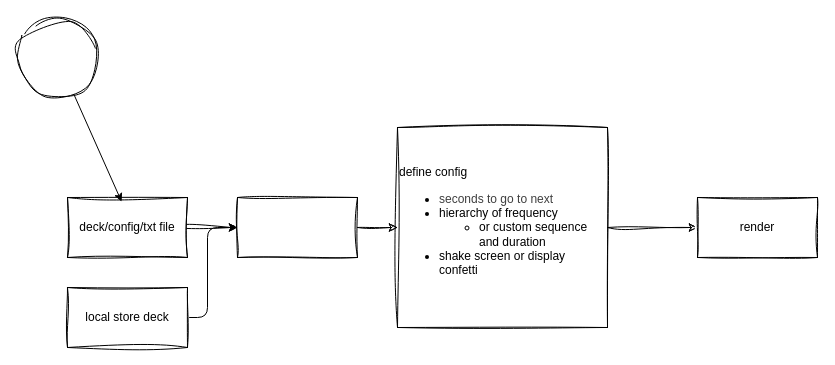
The diagram is 835 pixels wide and 365 high, and some of its shapes have lost their labels. The centre of each missing label's shape, as x and y in pixels:
"json file includes different configs" belongs at [57,57].
"read file" belongs at [297,227].
